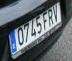0: (17, 27, 24, 46)
4: (31, 19, 36, 37)
5: (35, 16, 43, 34)
7: (23, 24, 30, 43)
F: (42, 12, 48, 30)
R: (48, 9, 53, 26)
V: (52, 5, 59, 22)
